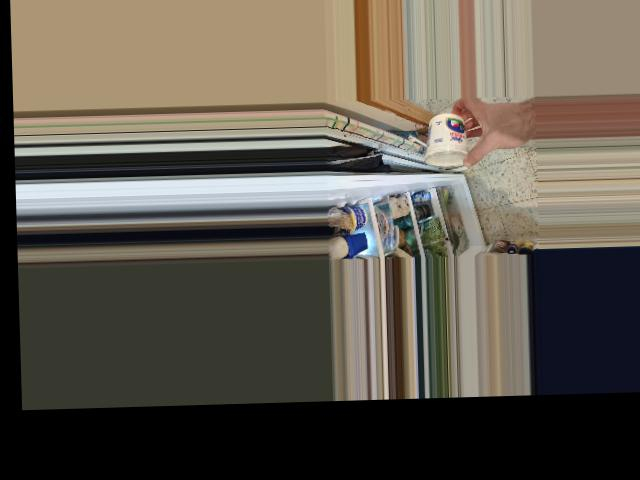cotage: (421, 108, 468, 165)
